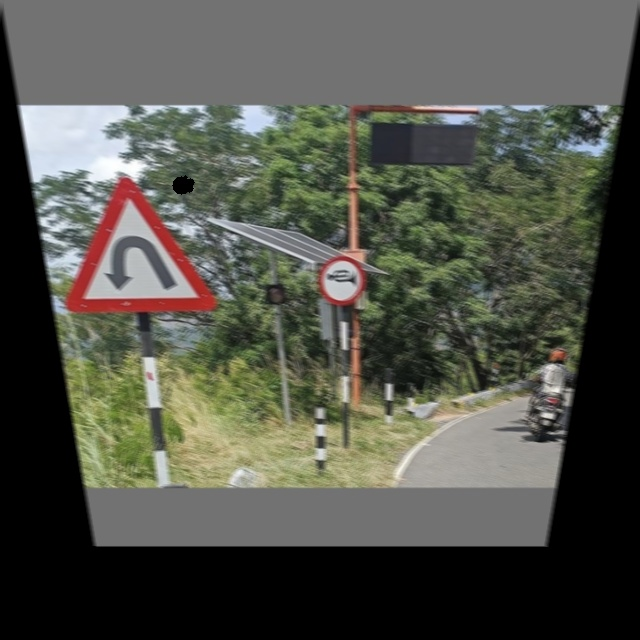Left_Hair_Pin_Bend: (43, 171, 223, 319)
